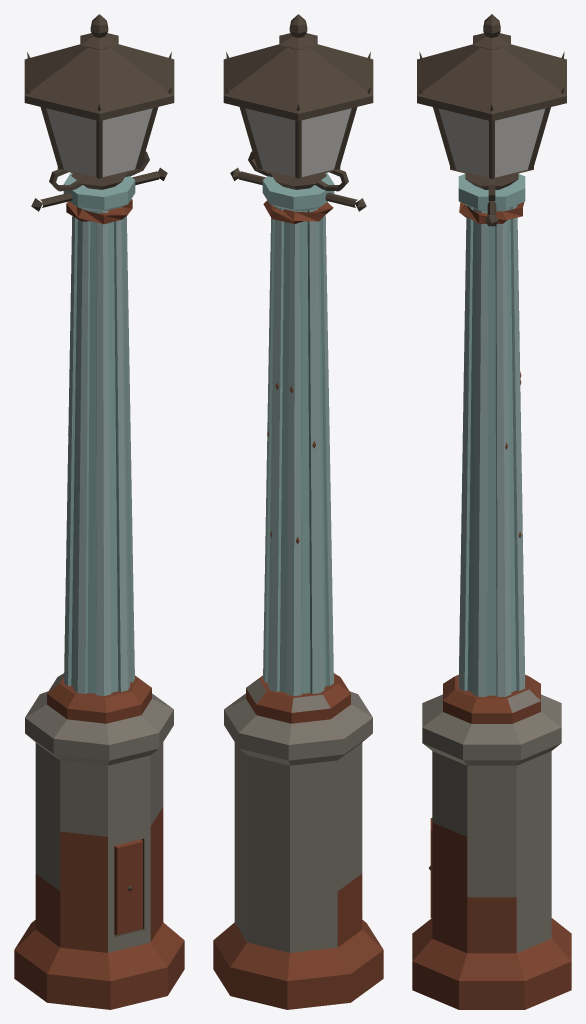
The model's file is seafront-lamp-post-28bada.glb.
3 renders of one model, left to right at view 1: azimuth 30°, elevation 25°; view 2: azimuth 150°, elevation 25°; view 3: azimuth 270°, elevation 25°, orthographic.
Parts seen in each view (by area): view 1: lamp-post, lamp-head, hatch-door; view 2: lamp-post, lamp-head; view 3: lamp-post, lamp-head.
Part boxes in pixels (x1,y1,x2,y2): lamp-post: (14,204,184,1009); lamp-head: (24,14,174,224); hatch-door: (114,839,142,934); lamp-post: (213,206,383,1009); lamp-head: (223,14,373,223); lamp-post: (412,205,571,1009); lamp-head: (417,14,566,226).
Size of the model in its own units: 0.6513 by 4 by 0.6.
